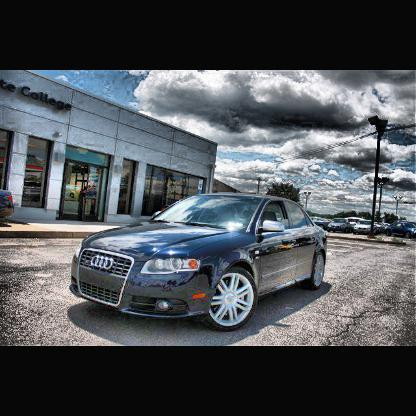Audi S4 Sedan 2007: (70, 191, 331, 333)
